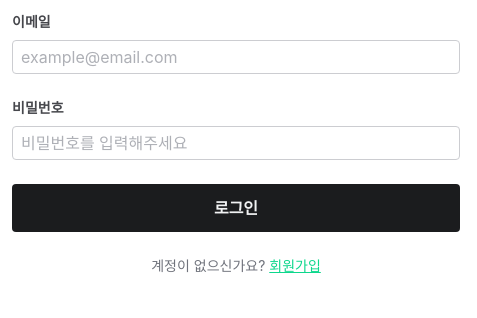
SigninForm - Business Logic › Form Validation › shows validation error for invalid email format
In the field labelled "이메일": (236, 57) [12,40,460,74], type "invalid-email"
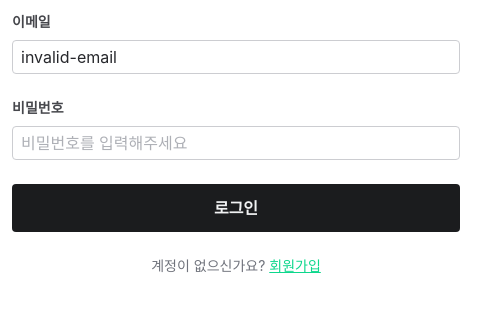
Leave the field labelled "이메일", box [12,40,460,74]
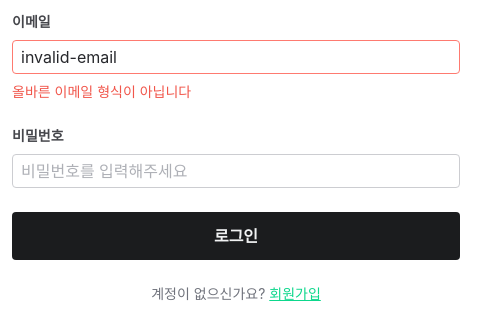
Now the text "올바른 이메일 형식이 아닙니다" is shown, box [12,83,191,100]
